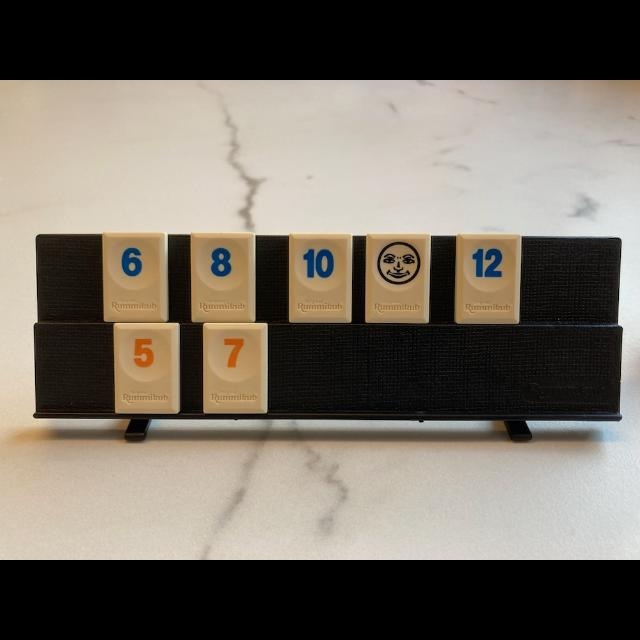blue_10: (289, 234, 352, 322)
blue_12: (455, 234, 521, 324)
blue_6: (104, 232, 168, 322)
blue_8: (191, 234, 255, 322)
joker: (365, 234, 430, 324)
orange_5: (114, 322, 180, 414)
orange_7: (204, 324, 268, 414)
